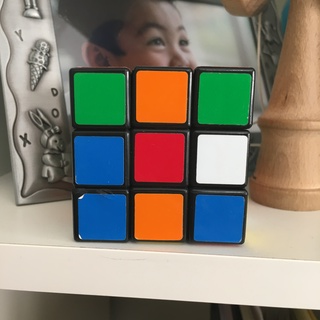face: (71, 69, 246, 245)
